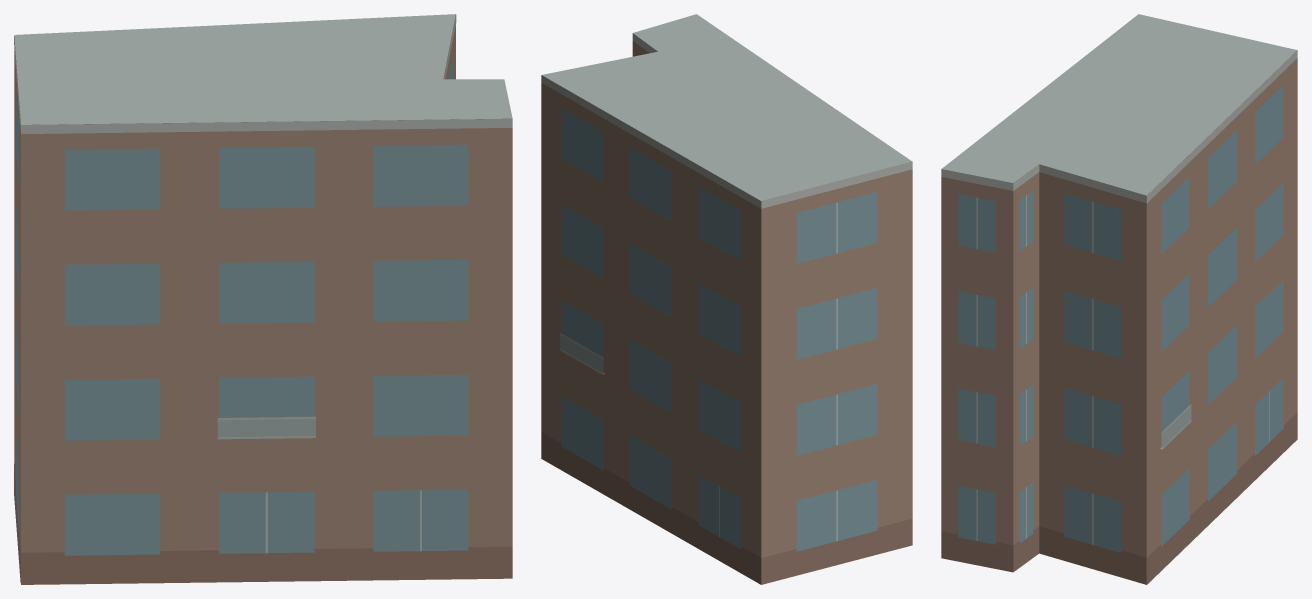
The model's file is survey-upis-32634260.glb.
3 renders of one model, left to right at view 1: azimuth 30°, elevation 25°; view 2: azimuth 150°, elevation 25°; view 3: azimuth 270°, elevation 25°, orthographic. The views are drawn at different scales.
Parts seen in each view (by area): view 1: survey-upis-32634260.tmp; view 2: survey-upis-32634260.tmp; view 3: survey-upis-32634260.tmp.
Part boxes in pixels (left/top/right/bottom): survey-upis-32634260.tmp: left=14, top=14, right=512, bottom=584; survey-upis-32634260.tmp: left=541, top=14, right=912, bottom=584; survey-upis-32634260.tmp: left=941, top=14, right=1297, bottom=584.
Size of the model in its own units: 12.22 by 12.2 by 10.13.
